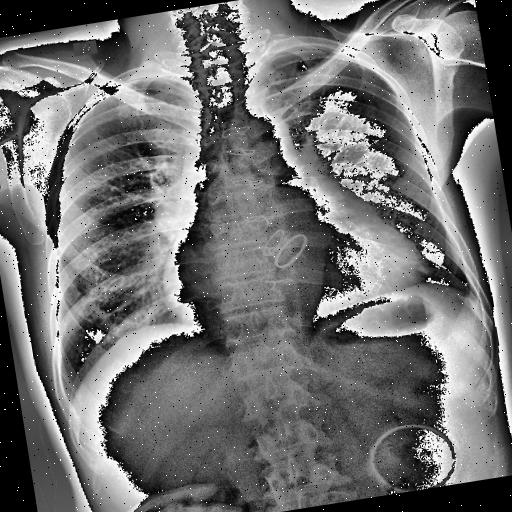3- Cardiomegaly: (151, 206, 431, 332), (156, 224, 427, 332), (158, 231, 420, 321)
